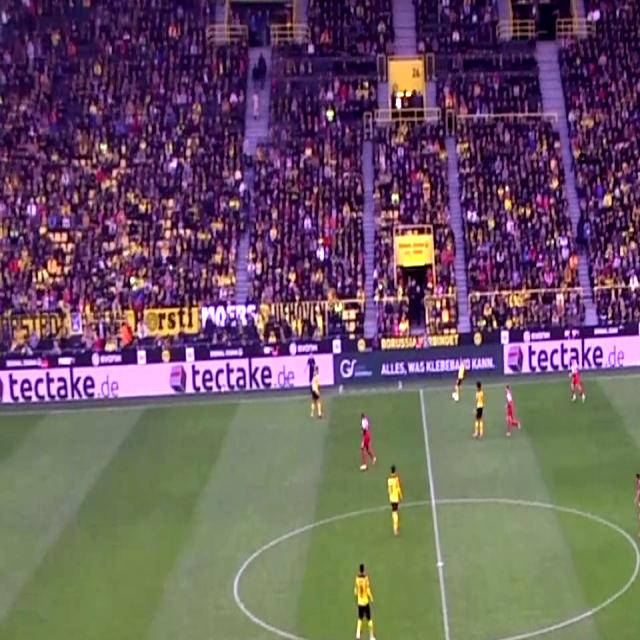ball: (449, 387, 460, 403)
soccer-player: (349, 556, 380, 640), (353, 406, 378, 478), (384, 461, 405, 544), (502, 382, 522, 444), (306, 354, 324, 421), (472, 378, 490, 444), (451, 348, 468, 406), (567, 354, 585, 406), (631, 464, 640, 542)
